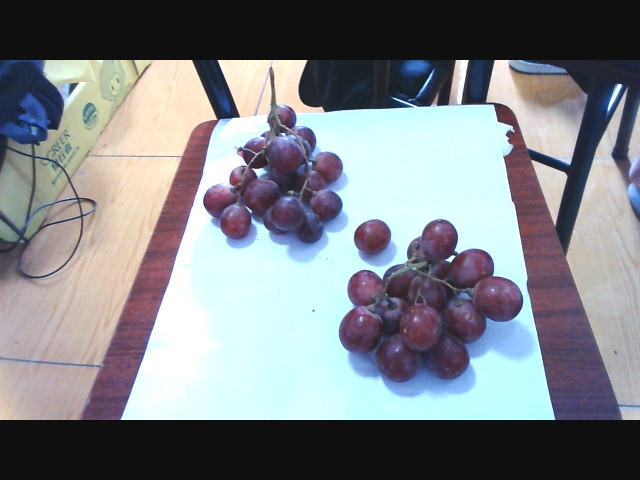grape: (342, 208, 518, 383), (208, 119, 347, 253)
